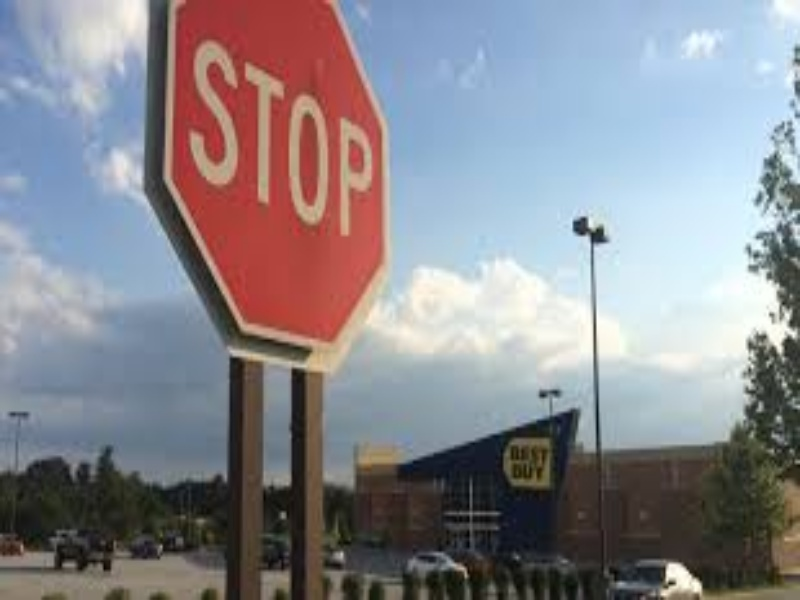Stop_Sign: (146, 4, 392, 374)
